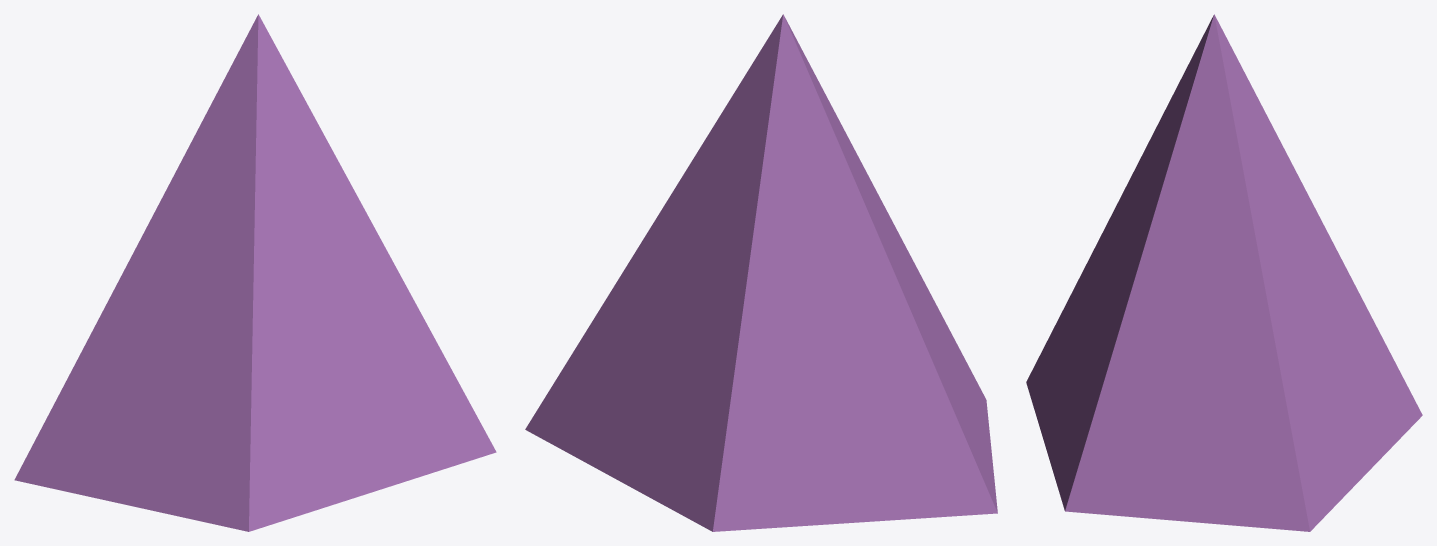
Rendered from g_lim5new.glb.
The picture shows the model from 3 angles, left to right: view 1: azimuth 30°, elevation 25°; view 2: azimuth 150°, elevation 25°; view 3: azimuth 270°, elevation 25°; orthographic projection. The views are drawn at different scales.
Parts seen in each view (by area): view 1: Mesh_Mesh_head_geo.001_lambert2SG.001; view 2: Mesh_Mesh_head_geo.001_lambert2SG.001; view 3: Mesh_Mesh_head_geo.001_lambert2SG.001.
Boxes of the visible parts, left/top/right/bottom form: Mesh_Mesh_head_geo.001_lambert2SG.001: left=14, top=14, right=496, bottom=531; Mesh_Mesh_head_geo.001_lambert2SG.001: left=525, top=14, right=997, bottom=531; Mesh_Mesh_head_geo.001_lambert2SG.001: left=1026, top=14, right=1422, bottom=531.
Size of the model in its own units: 0.121 by 0.113 by 0.097.
